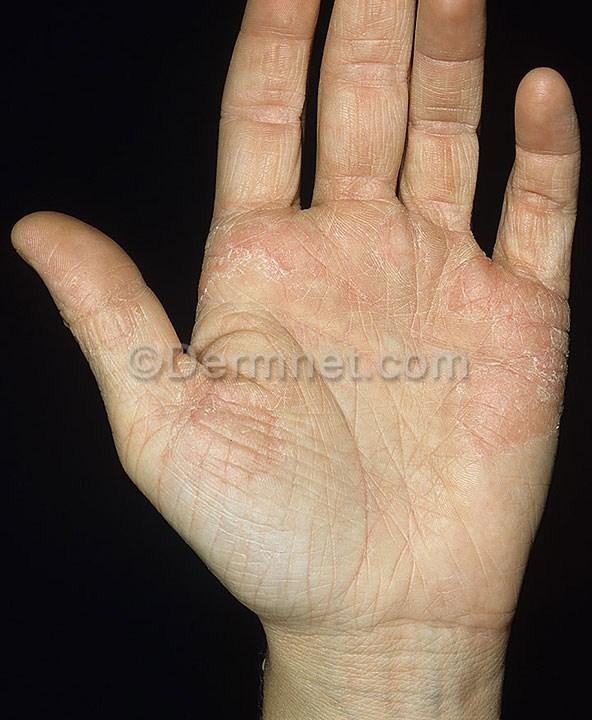Eczema: (184, 144, 402, 331), (127, 361, 270, 499), (444, 283, 564, 415), (40, 232, 140, 338), (333, 32, 417, 133), (419, 0, 480, 103), (516, 86, 582, 161), (245, 0, 309, 55)
